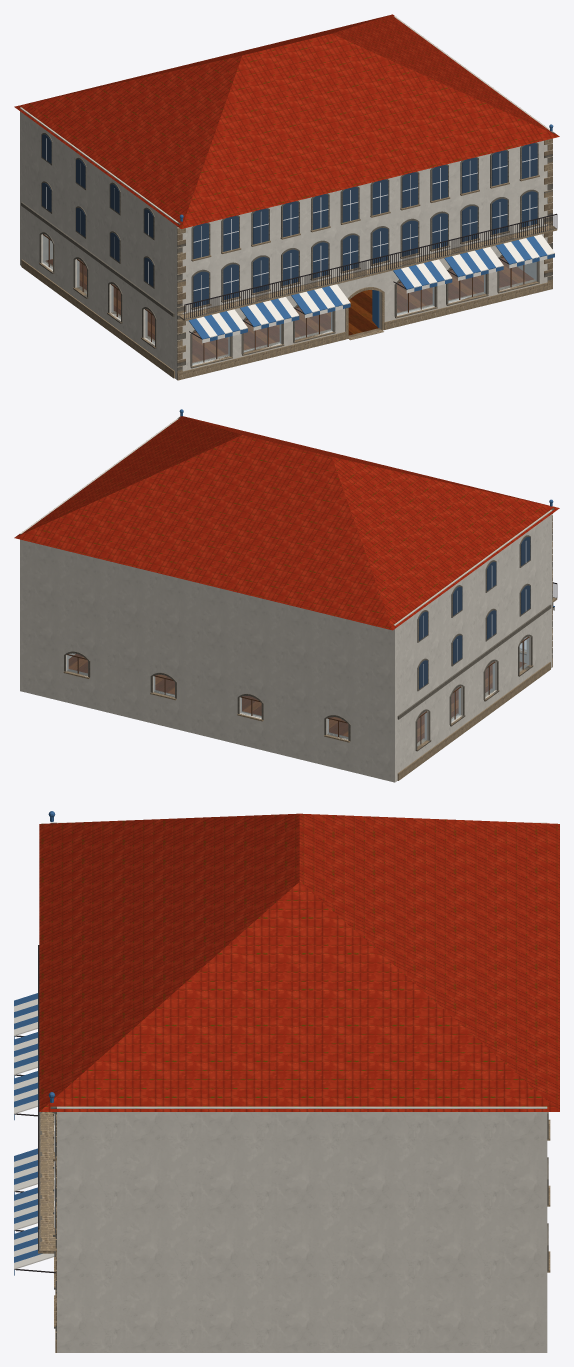
Rendered from shop_inn.gltf.
3 views of the same model, one above another, from view 1: azimuth 30°, elevation 25°; view 2: azimuth 150°, elevation 25°; view 3: azimuth 270°, elevation 25° (orthographic). The views are drawn at different scales.
Parts seen in each view (by area): view 1: shop_inn; view 2: shop_inn; view 3: shop_inn.
Boxes of the visible parts, <box> form: shop_inn: <box>14,14,559,380</box>; shop_inn: <box>14,409,559,782</box>; shop_inn: <box>14,811,559,1352</box>.
Size of what is drawn, in the model's own units: 26.96 by 15.83 by 21.6.
Materials: 9 (5 with a texture image).
